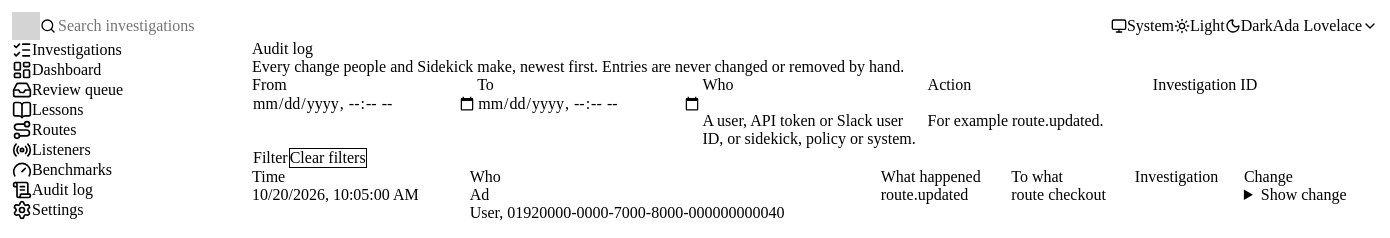
it: the audit log page › applies the filters to the request, and clears them
Type "U01SLACK" into the field labelled "Who" at (815, 103), box [702,94,928,112]
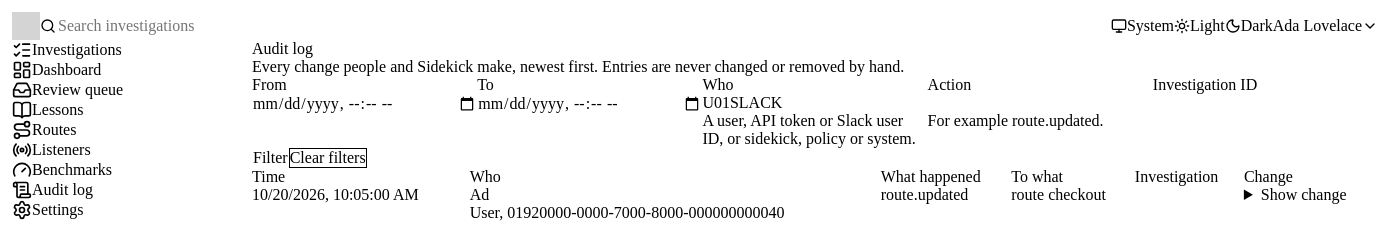
Type "listener.created" into the field labelled "Action" at (1040, 103), box [928,94,1153,112]
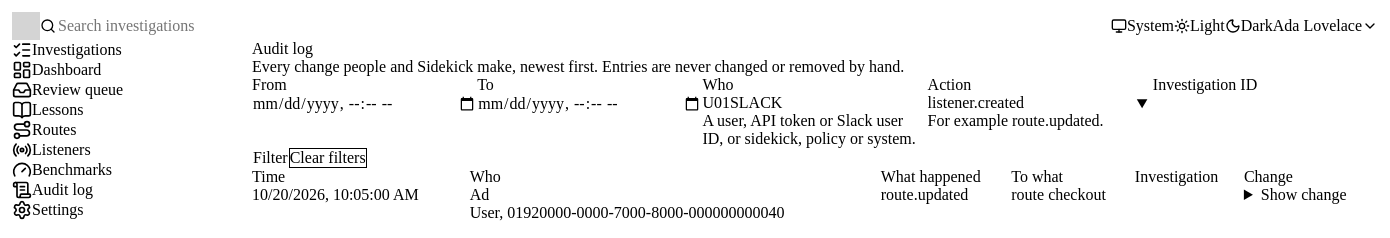
Click the button "Filter" at (270, 158), box [252,148,289,168]
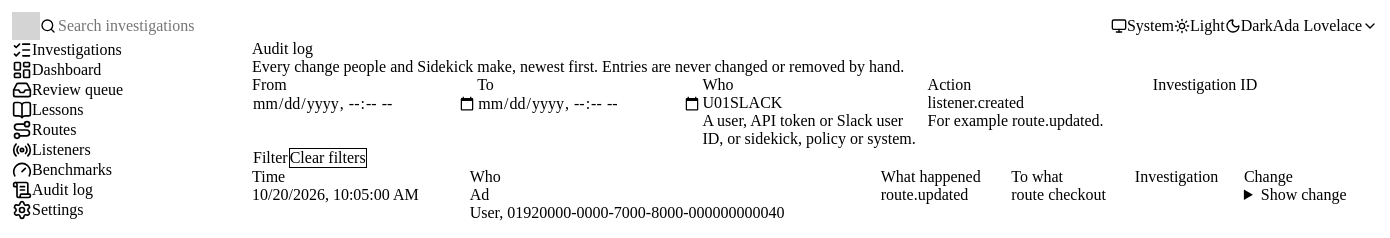
Click the button "Clear filters" at (328, 158), box [289,148,367,168]
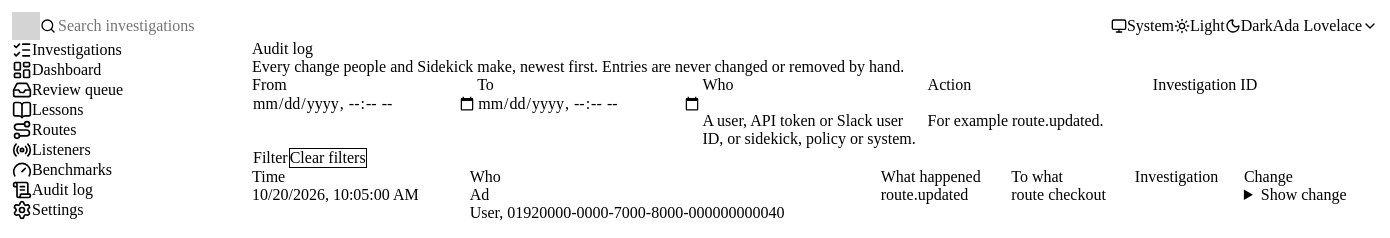
Now the field labelled "Who" is empty, box [702,94,928,112]
